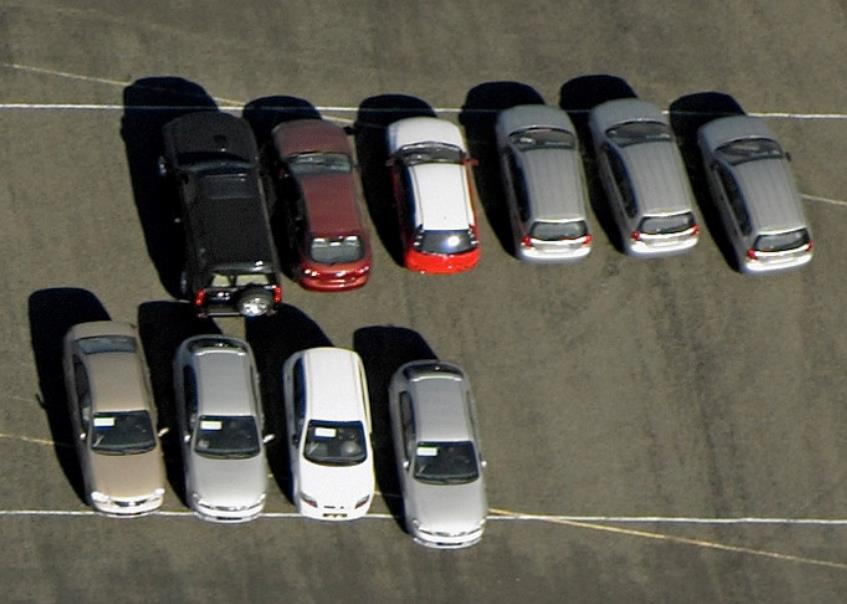car: (158, 106, 285, 319), (59, 318, 167, 517), (383, 355, 491, 553), (693, 112, 815, 275), (169, 335, 271, 525), (268, 117, 374, 295), (586, 97, 702, 257), (278, 347, 377, 524), (492, 103, 595, 266), (384, 114, 482, 277)
